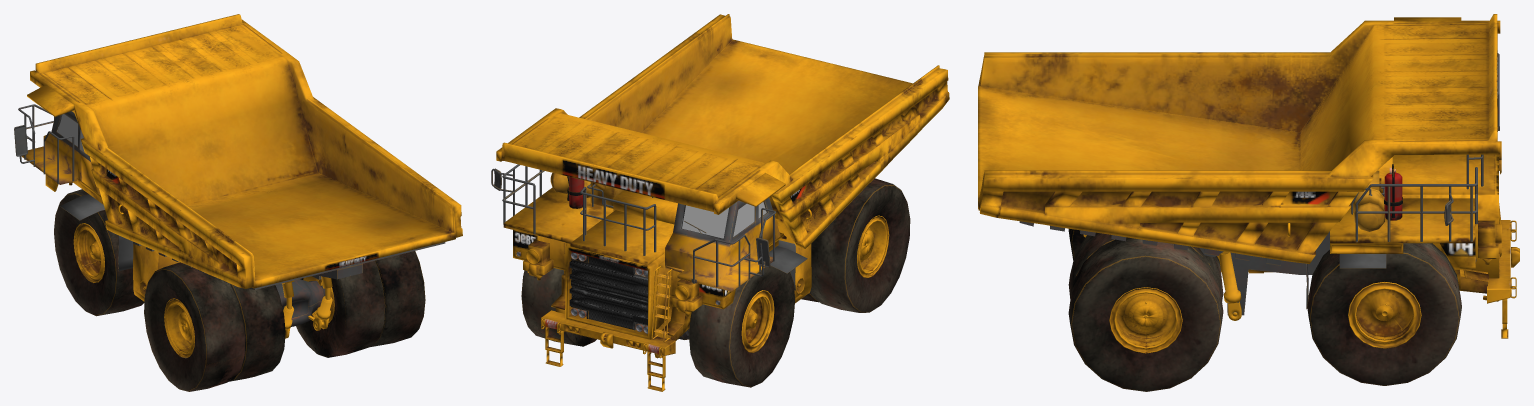
The model's file is Caterpillar+789c.FBX.
3 views of the same model, side by side, from view 1: azimuth 30°, elevation 25°; view 2: azimuth 150°, elevation 25°; view 3: azimuth 270°, elevation 25° (orthographic). The views are drawn at different scales.
Parts seen in each view (by area): view 1: Truck Sampah paling normal; view 2: Truck Sampah paling normal; view 3: Truck Sampah paling normal.
Part boxes in pixels (x1,y1,x2,y2): Truck Sampah paling normal: [14, 14, 462, 391]; Truck Sampah paling normal: [491, 14, 949, 391]; Truck Sampah paling normal: [978, 14, 1519, 391].
Bounding box in the file's own units: 810 × 616 × 1177.
